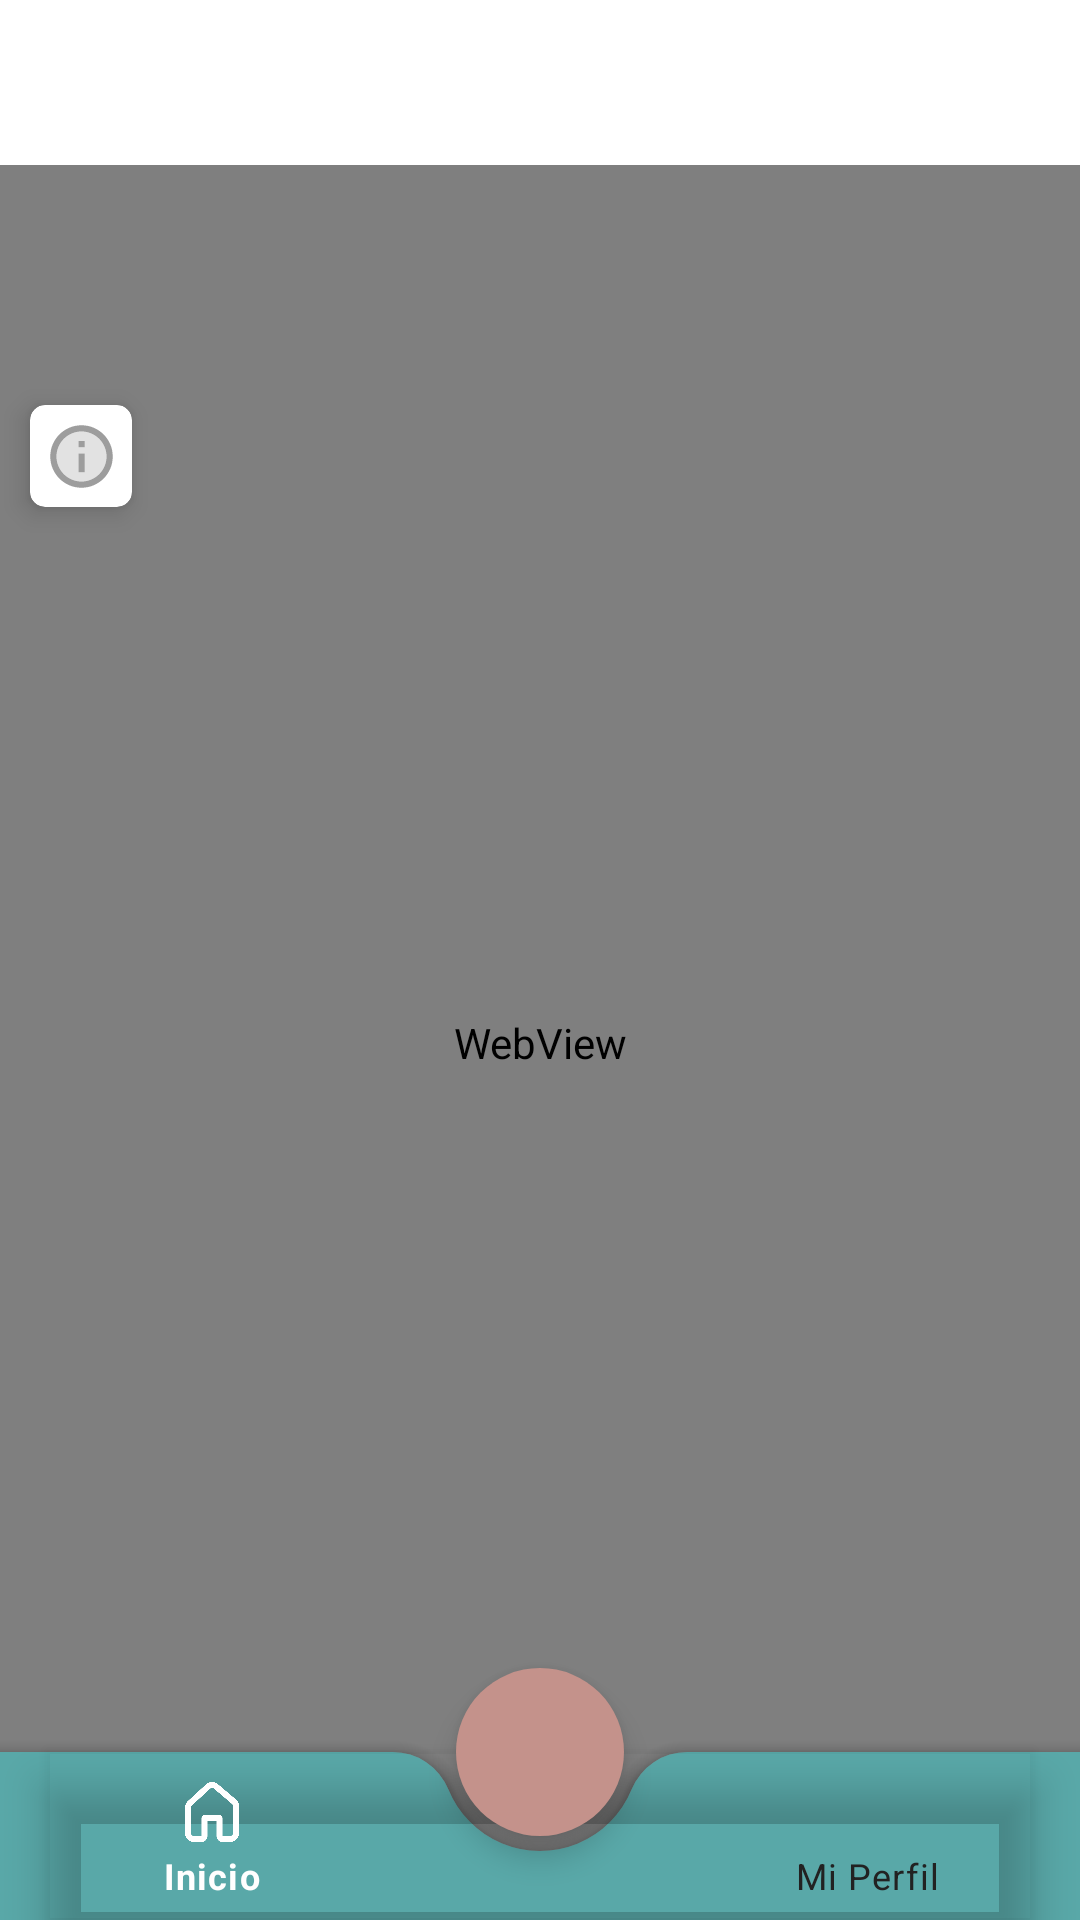

Icon click points for this 1080w x 1920h phone screenshot, format [x,y]:
informacion: [81,456]
